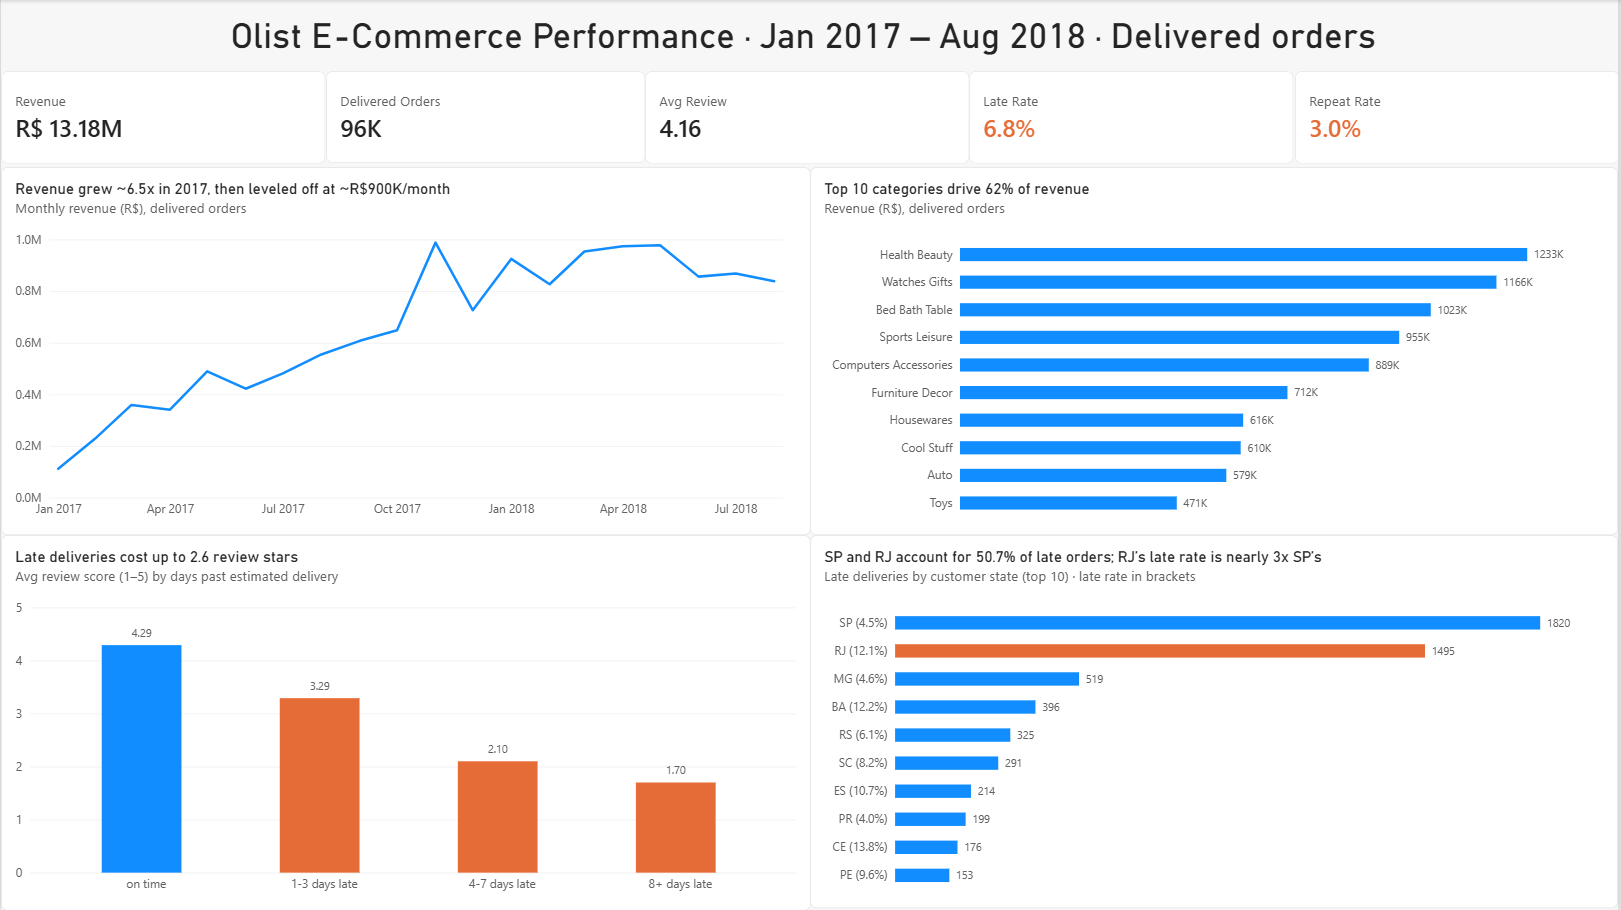

What the dashboard file says about the page in this screenshot:
{"tool":"powerbi","page":{"name":"Page 1","canvas":[1920,1080],"ordinal":0},"visuals":[{"type":"lineChart","title":"Revenue grew ~6.5x in 2017, then leveled off at ~R$900K/month","fields":{"Category":["monthly_revenue.month"],"Y":["Sum(monthly_revenue.revenue)"]},"box":[0,198,960.7,437.4],"z":0},{"type":"clusteredBarChart","title":"Top 10 categories drive 62% of revenue ","fields":{"Category":["top_categories.category"],"Y":["Sum(top_categories.revenue)"]},"box":[960.7,198,959.3,437.4],"z":1000},{"type":"clusteredColumnChart","title":"Late deliveries cost up to 2.6 review stars","fields":{"Category":["review_by_delay.delivery_status"],"Y":["Sum(review_by_delay.review_score_avg)"]},"box":[0,635.4,960.7,445.7],"z":2000},{"type":"clusteredBarChart","title":"SP and RJ account for 50.7% of late orders; RJ’s late rate is nearly 3x SP’s","fields":{"Category":["states.State Label"],"Y":["Sum(states.n_late_orders)"]},"box":[960.7,635.4,959.3,443],"z":3000},{"type":"cardVisual","fields":{"Data":["Sum(kpis.total_revenue)"]},"box":[0.3,84.4,385,110],"z":4000},{"type":"cardVisual","fields":{"Data":["Sum(kpis.total_orders)"]},"box":[385.2,84.4,379.3,109.4],"z":5000},{"type":"cardVisual","fields":{"Data":["Sum(kpis.repeat_rate)"]},"box":[1535.5,84.4,385,110],"z":6000},{"type":"cardVisual","fields":{"Data":["Sum(kpis.avg_review)"]},"box":[764.5,84.4,385,110],"z":7000},{"type":"cardVisual","fields":{"Data":["Sum(kpis.late_rate)"]},"box":[1149.3,84.4,385,110],"z":8000},{"type":"textbox","title":"Olist E-Commerce Performance · Jan 2017 – Aug 2018 · Delivered orders","box":[272.7,18,1374.6,52.6],"z":9000}]}

Visuals, with their boxes in screenshot pixels (x1, y1, x2, y2), scaled from the page's 1920x1080 canvas onto the 1621x910 screenshot:
"Revenue grew ~6.5x in 2017, then leveled off at ~R$900K/month" lineChart: box=[0, 167, 811, 535]
"Top 10 categories drive 62% of revenue " clusteredBarChart: box=[811, 167, 1620, 535]
"Late deliveries cost up to 2.6 review stars" clusteredColumnChart: box=[0, 535, 811, 909]
"SP and RJ account for 50.7% of late orders; RJ’s late rate is nearly 3x SP’s" clusteredBarChart: box=[811, 535, 1620, 909]
cardVisual - Sum(kpis.total_revenue): box=[0, 71, 325, 164]
cardVisual - Sum(kpis.total_orders): box=[325, 71, 645, 163]
cardVisual - Sum(kpis.repeat_rate): box=[1296, 71, 1620, 164]
cardVisual - Sum(kpis.avg_review): box=[645, 71, 970, 164]
cardVisual - Sum(kpis.late_rate): box=[970, 71, 1295, 164]
"Olist E-Commerce Performance · Jan 2017 – Aug 2018 · Delivered orders" textbox: box=[230, 15, 1391, 59]
